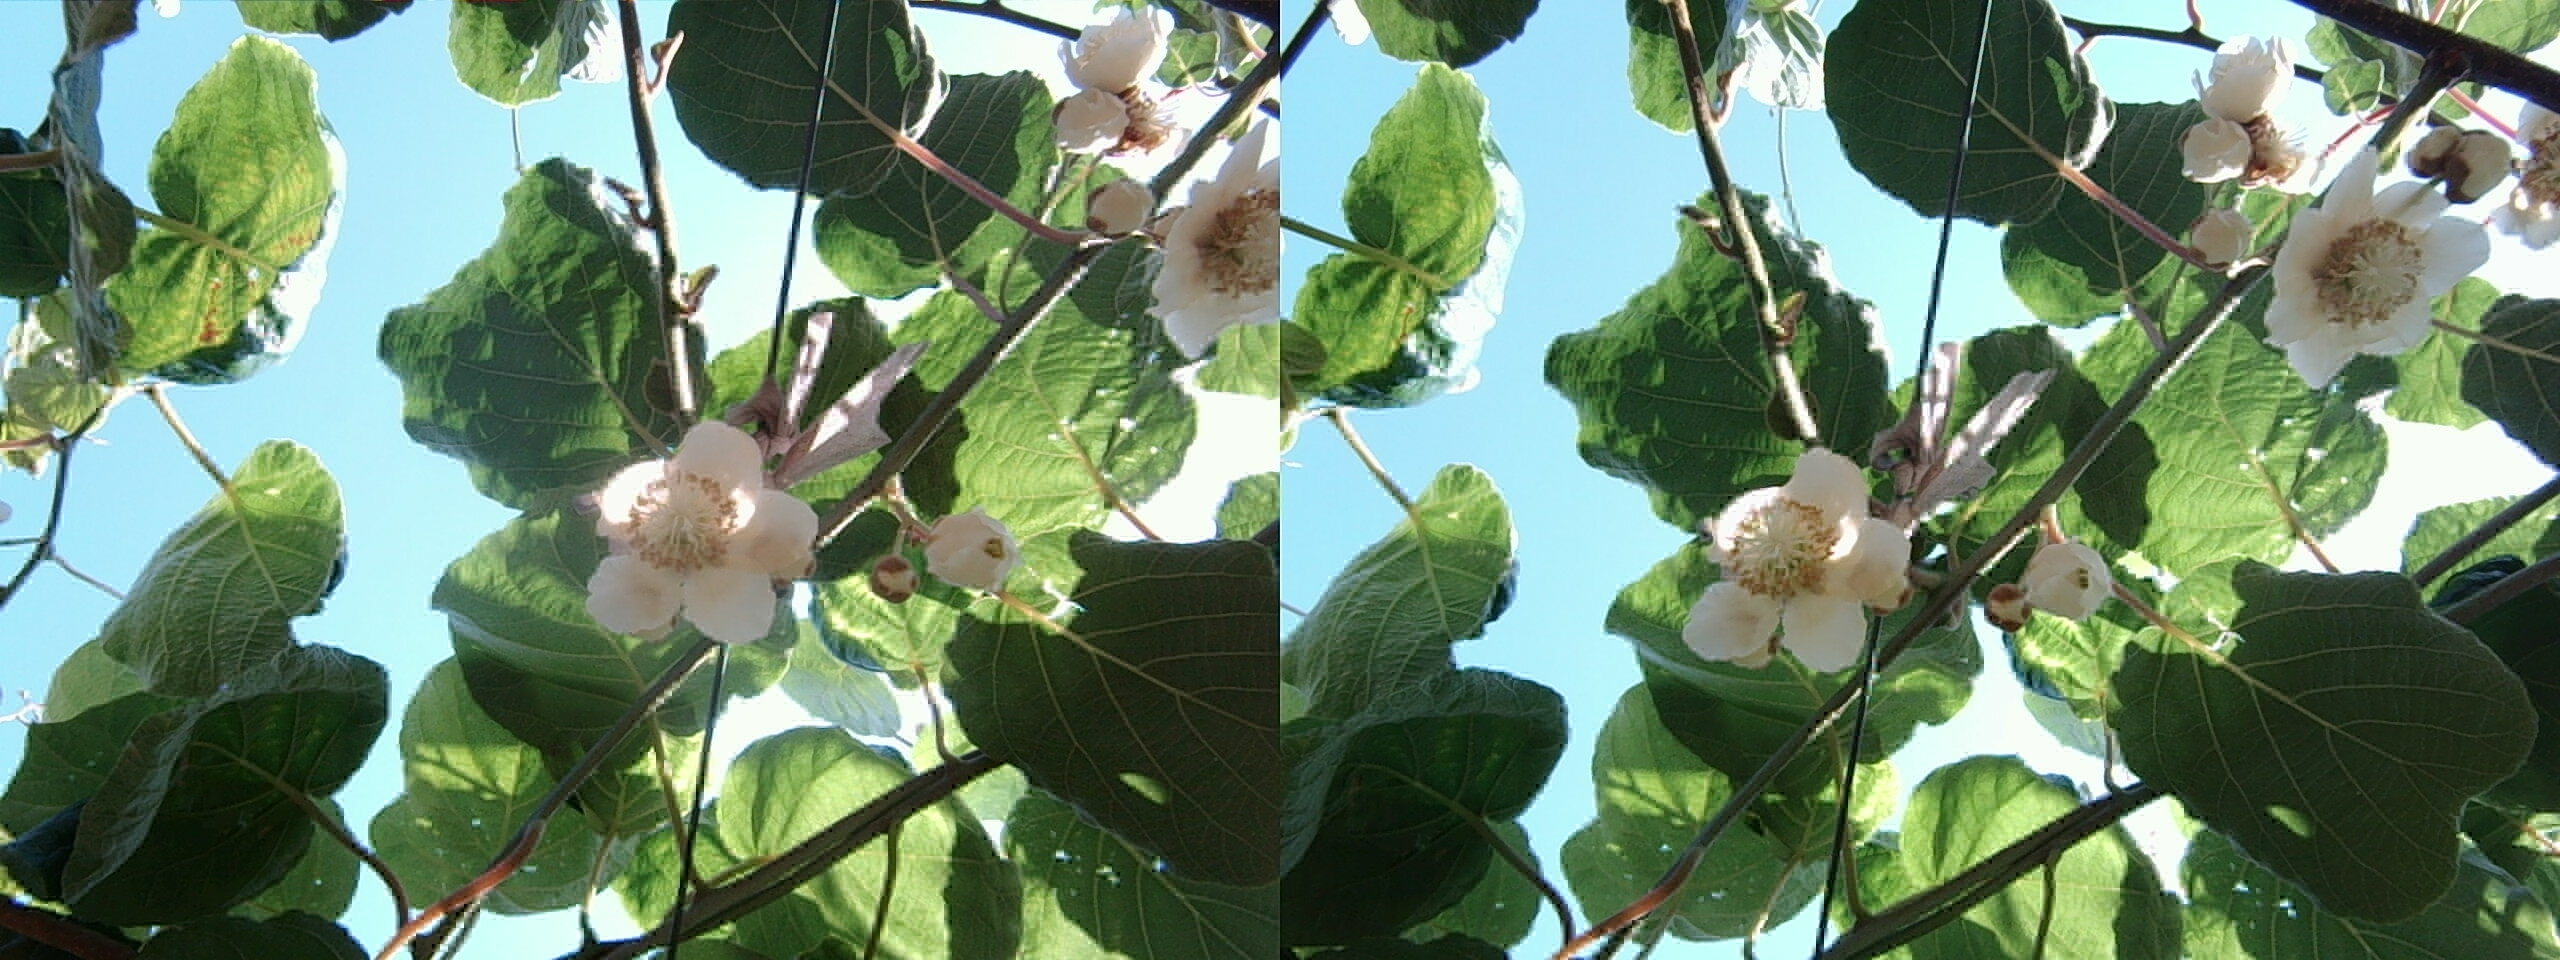flower: (1673, 447, 1904, 666), (584, 416, 807, 638), (2256, 175, 2485, 371), (1148, 152, 1273, 349)
